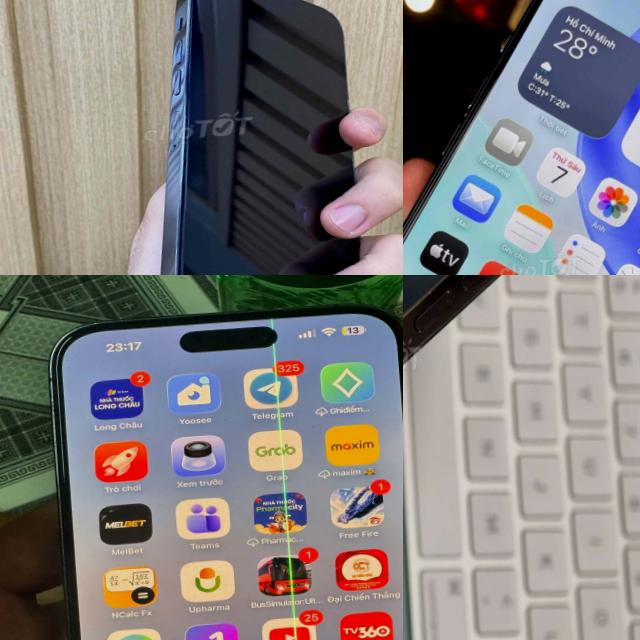gen_12_13: (126, 0, 391, 275)
gen_15: (42, 296, 403, 640)
gen_17: (403, 0, 640, 275)
